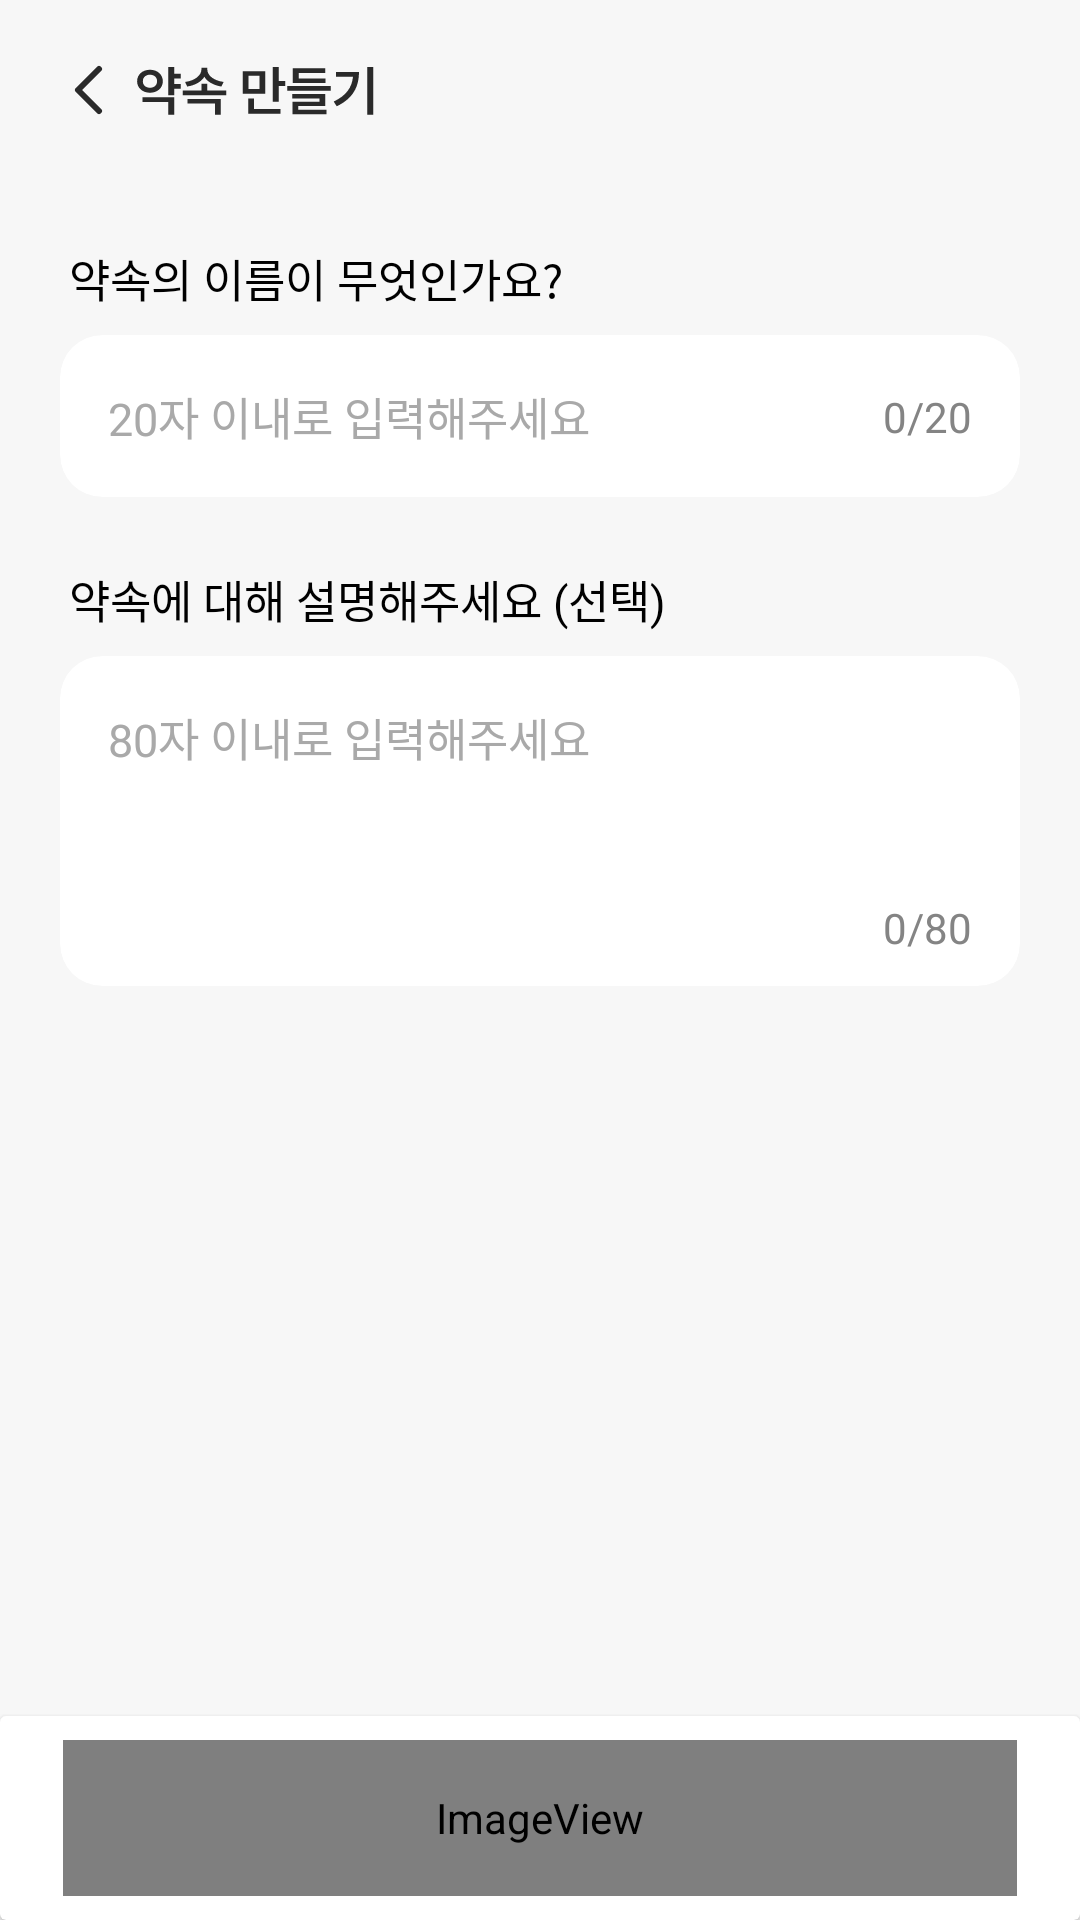

Where icons sit on this 1080x1920 app screen, as detection(x1, y1, x2, y2):
navigate up: detection(75, 66, 102, 114)
